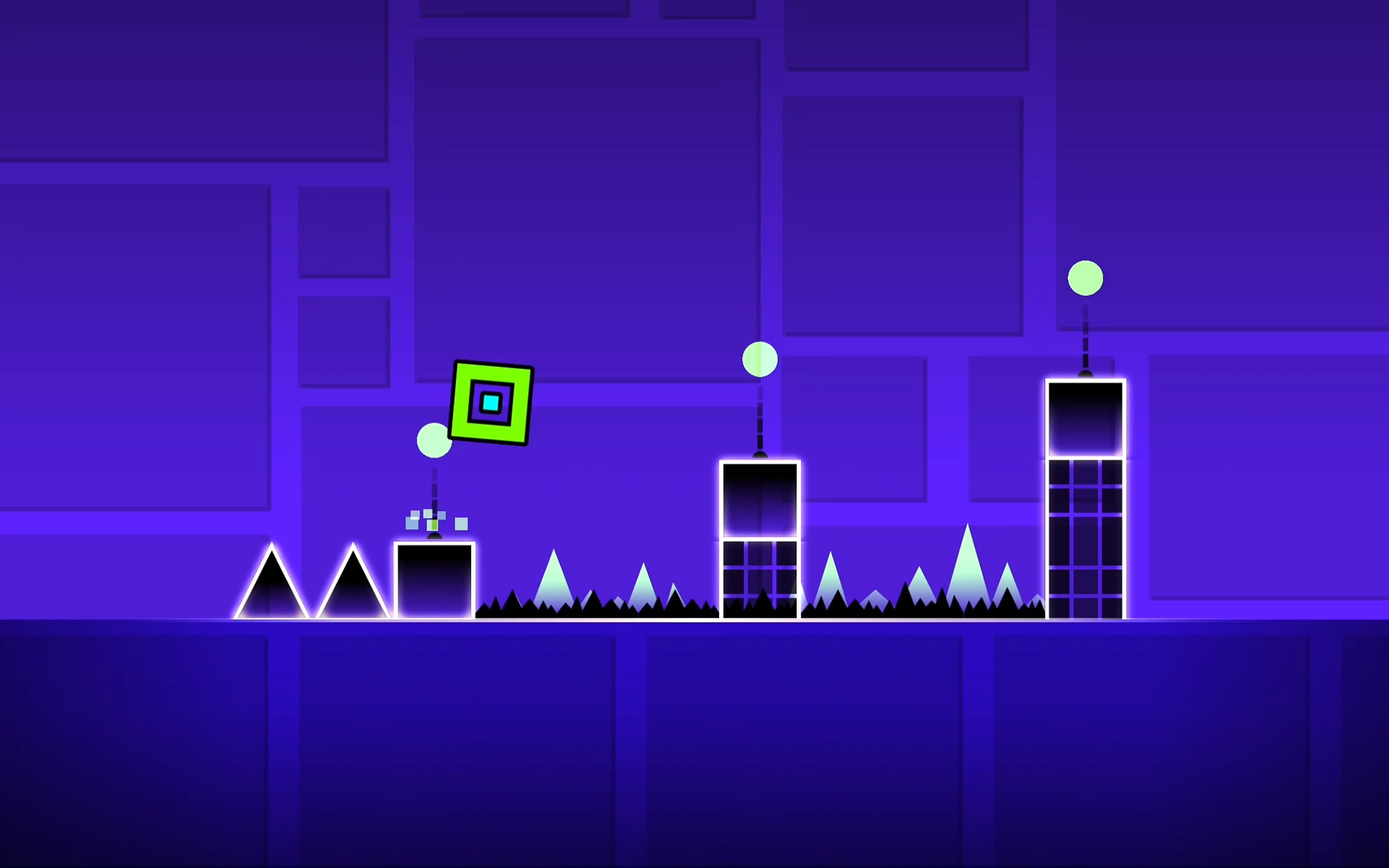Block: (1042, 378, 1126, 458), (391, 540, 476, 618), (720, 460, 800, 538)
Block2: (1045, 458, 1124, 622), (721, 538, 799, 618)
Player: (449, 360, 533, 444)
Spike: (233, 542, 312, 619), (315, 542, 389, 618)
Spike3: (804, 590, 1044, 620), (478, 593, 716, 620)
